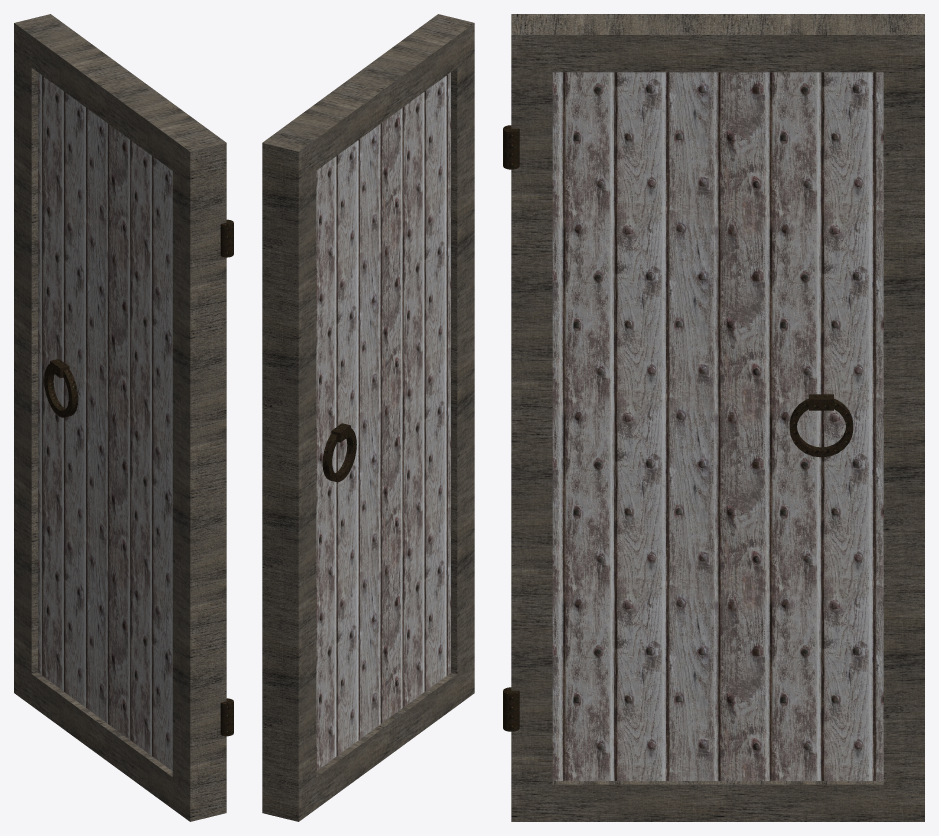
Rendered from Door.fbx.
3 renders of one model, left to right at view 1: azimuth 30°, elevation 25°; view 2: azimuth 150°, elevation 25°; view 3: azimuth 270°, elevation 25°, orthographic. The views are drawn at different scales.
Visible parts, largest first — view 1: wood2, wood1, metal; view 2: wood2, wood1, metal; view 3: wood2, wood1, metal.
Boxes of the visible parts, x1,y1,x2,y2 form: wood2: (38,72,172,770); wood1: (14,14,226,821); metal: (44,219,233,736); wood2: (316,72,450,770); wood1: (262,14,474,821); metal: (322,423,356,481); wood2: (552,72,883,780); wood1: (511,14,924,821); metal: (503,125,853,731).
Size of the model in its own units: 15 by 210 by 102.
